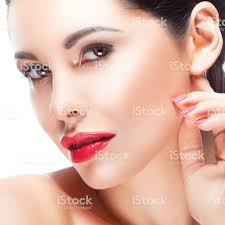white_female: (17, 23, 186, 170)
